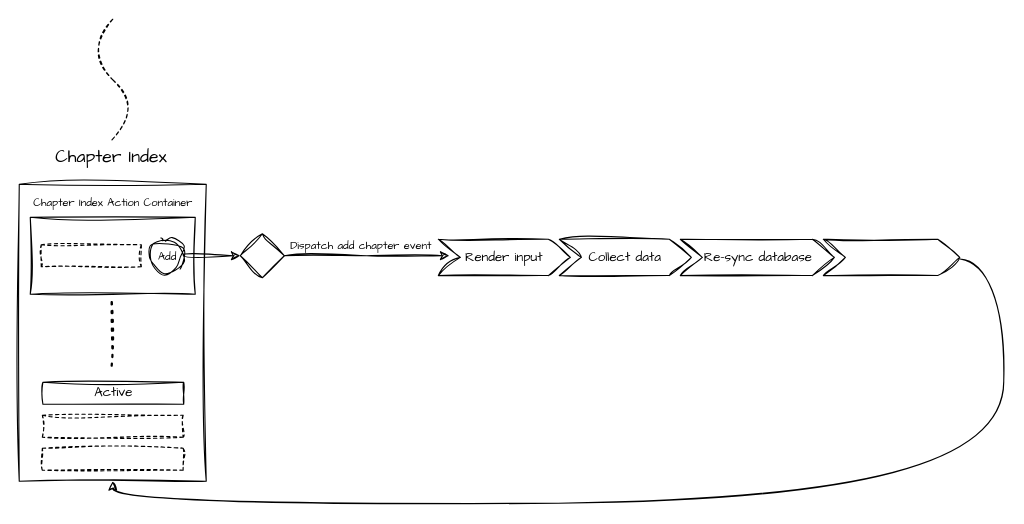
Some shapes in this 1024 by 524 pixel diagram are drawn without their labels. Each missing label, with the centre of its shape:
Click: (x=261, y=255)
Search Box: (x=90, y=255)
Update render: (x=891, y=257)
